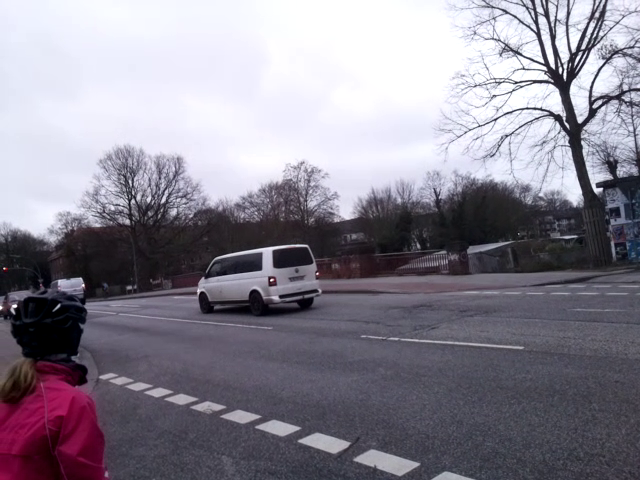car: (188, 235, 327, 323)
